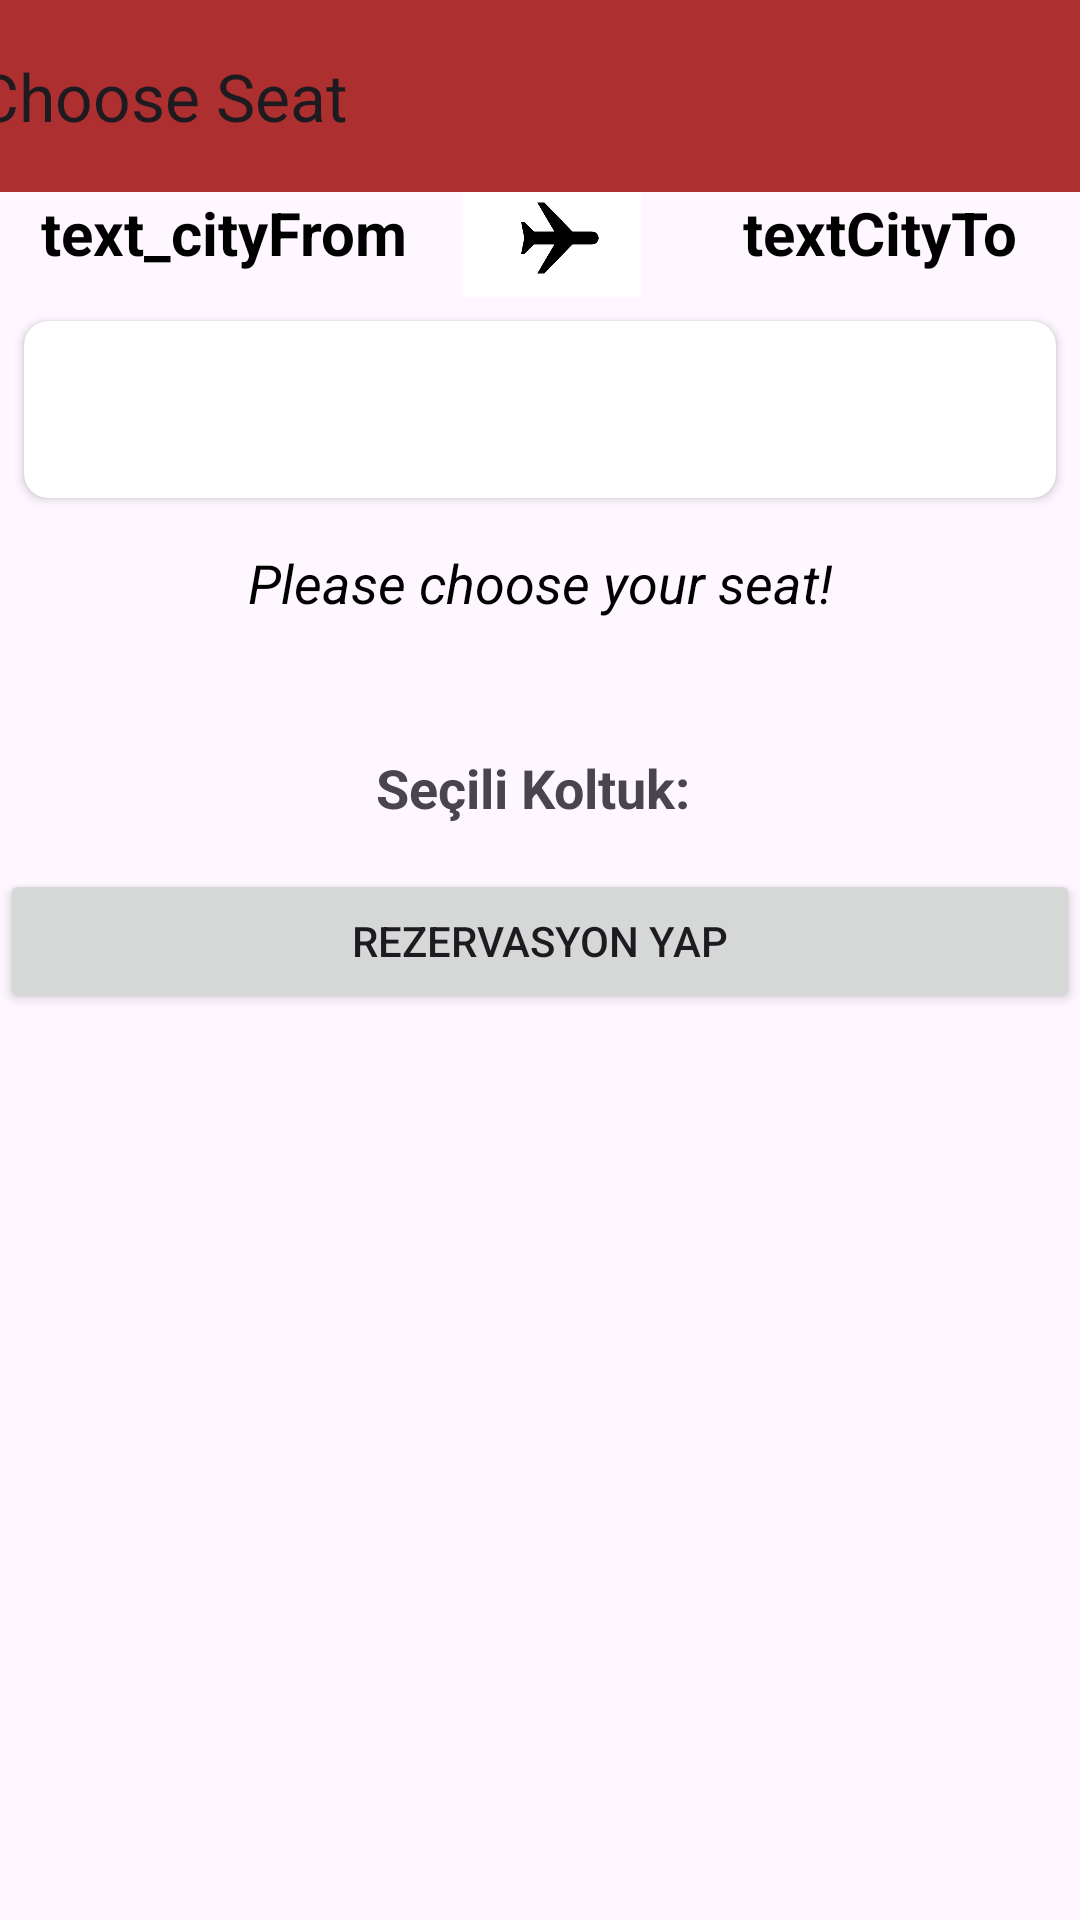

Screen size 1080x1920. Icon name, then its center in pixels as (x,y):
plane: (560,238)
